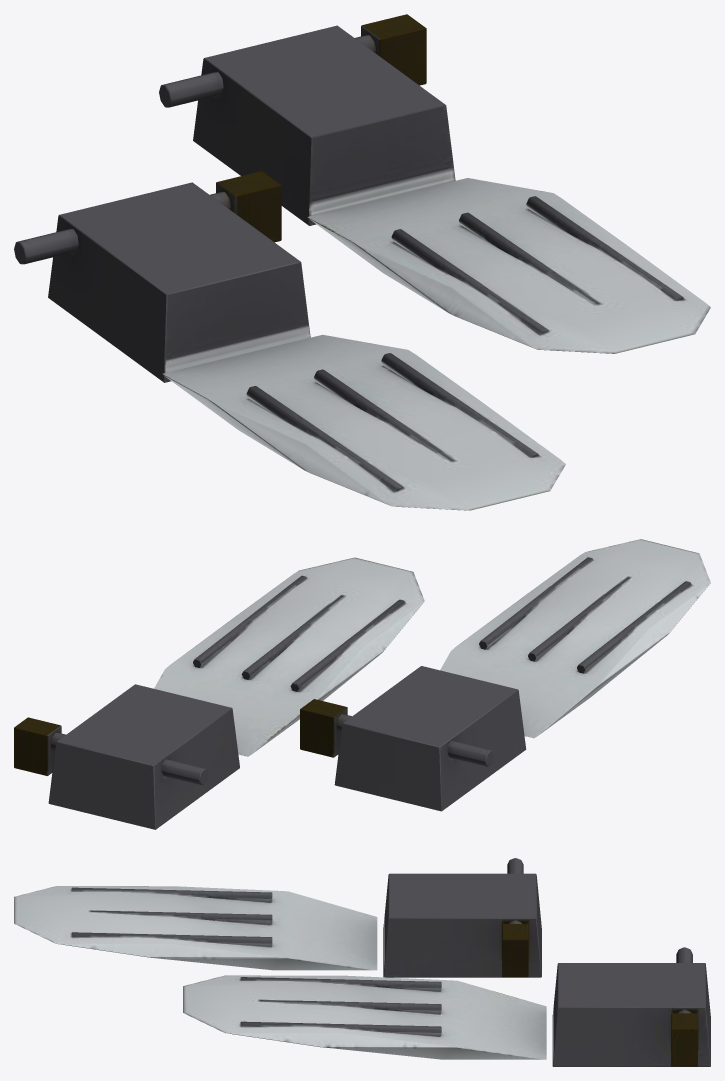
The model's file is IT_flippers.glb.
The picture shows the model from 3 angles, top to bottom: view 1: azimuth 30°, elevation 25°; view 2: azimuth 150°, elevation 25°; view 3: azimuth 270°, elevation 25°; orthographic projection. The views are drawn at different scales.
Parts seen in each view (by area): view 1: IT_flippers; view 2: IT_flippers; view 3: IT_flippers.
Boxes of the visible parts, x1,y1,x2,y2 form: IT_flippers: (14, 14, 710, 510); IT_flippers: (14, 539, 710, 829); IT_flippers: (14, 858, 710, 1066).
Size of the model in its own units: 0.775 by 0.12 by 1.32.
Materials: 1 (1 with a texture image).
